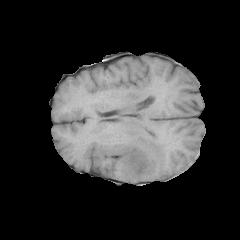glioma: (117, 128, 167, 177)
